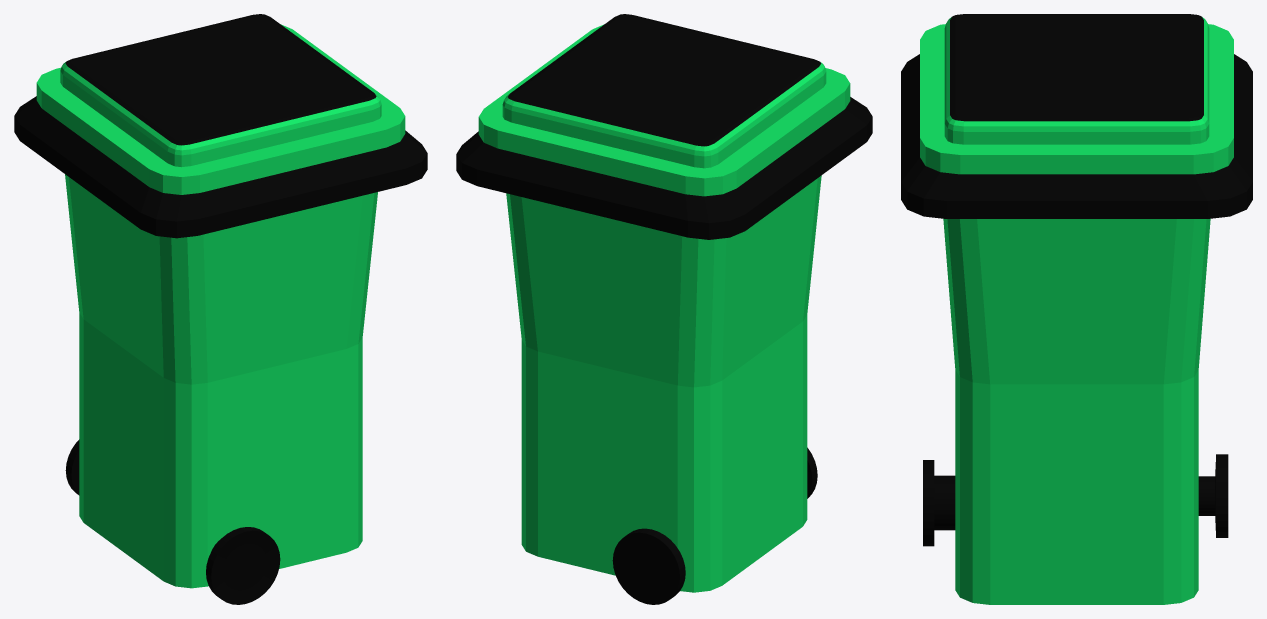
The model's file is TrashCan.fbx.
3 views of the same model, side by side, from view 1: azimuth 30°, elevation 25°; view 2: azimuth 150°, elevation 25°; view 3: azimuth 270°, elevation 25° (orthographic). The views are drawn at different scales.
Parts seen in each view (by area): view 1: Cube; view 2: Cube; view 3: Cube.
Part boxes in pixels (x1,y1,x2,y2): Cube: (14, 14, 427, 604); Cube: (456, 14, 872, 604); Cube: (901, 14, 1252, 604).
Bounding box in the file's own units: 249 × 391 × 249.
